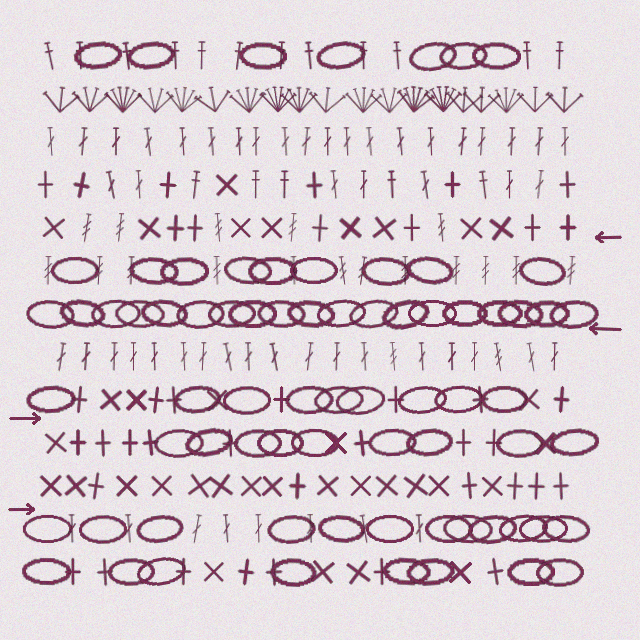chain: (378, 295, 432, 333), (134, 553, 188, 590), (182, 424, 235, 461), (406, 38, 460, 74), (347, 296, 400, 332), (314, 38, 367, 73), (404, 253, 456, 288), (334, 383, 387, 417), (396, 383, 449, 417), (57, 296, 108, 331), (134, 512, 186, 546), (466, 512, 518, 546), (315, 297, 368, 330), (497, 512, 550, 545), (517, 254, 568, 288), (222, 254, 274, 287), (548, 426, 600, 459), (72, 39, 123, 72), (125, 39, 176, 72), (139, 297, 190, 330), (172, 383, 223, 416), (404, 426, 455, 459), (540, 513, 592, 545), (438, 40, 489, 72), (128, 255, 179, 287), (360, 255, 411, 287), (25, 298, 76, 330), (175, 298, 226, 330), (285, 298, 336, 330), (548, 298, 599, 330), (313, 384, 364, 416), (316, 513, 367, 545), (442, 513, 494, 544), (266, 513, 316, 545), (405, 556, 455, 588), (90, 298, 141, 329), (25, 384, 76, 415), (284, 384, 335, 415), (433, 384, 484, 415), (153, 428, 205, 458), (367, 427, 417, 458), (381, 556, 431, 587), (114, 299, 165, 329), (256, 299, 307, 329), (496, 298, 545, 329), (471, 41, 521, 71), (159, 256, 209, 286), (207, 299, 257, 329), (222, 385, 272, 415), (233, 428, 283, 458), (78, 514, 128, 544), (518, 514, 568, 544), (535, 557, 585, 587), (22, 514, 73, 543), (238, 41, 287, 71), (495, 428, 544, 458), (107, 557, 156, 587), (269, 557, 318, 587), (247, 256, 297, 285), (289, 256, 339, 285), (227, 299, 277, 328), (407, 299, 457, 328), (290, 428, 340, 457), (365, 514, 415, 543), (424, 514, 474, 543), (21, 557, 71, 586), (523, 299, 571, 329), (50, 256, 99, 285), (480, 385, 529, 414), (256, 428, 305, 457), (506, 557, 555, 586), (441, 299, 489, 328), (476, 299, 524, 328)
double: (104, 170, 119, 200), (221, 342, 236, 372), (267, 342, 282, 372), (54, 342, 68, 372), (142, 127, 155, 157), (419, 170, 432, 200), (525, 342, 538, 372), (190, 514, 203, 544), (358, 514, 371, 544), (533, 170, 546, 199), (77, 127, 89, 156), (206, 127, 218, 156), (300, 127, 312, 156), (364, 127, 376, 156), (533, 127, 545, 156), (80, 342, 92, 371), (303, 342, 315, 371), (123, 514, 135, 543), (280, 127, 291, 156), (395, 127, 406, 156), (457, 127, 468, 156), (476, 127, 487, 156), (506, 127, 517, 156), (329, 170, 340, 199), (243, 342, 254, 371), (359, 342, 370, 371), (221, 514, 232, 543), (305, 514, 316, 543), (414, 514, 425, 543), (46, 127, 56, 156), (111, 127, 121, 156), (178, 127, 188, 156), (234, 127, 244, 156), (251, 127, 261, 156), (342, 127, 352, 156), (426, 127, 436, 156), (560, 127, 570, 156), (134, 170, 144, 199), (109, 342, 119, 371), (179, 342, 189, 371), (198, 342, 208, 371), (417, 342, 427, 371), (447, 342, 457, 371), (67, 514, 77, 543), (323, 127, 332, 156), (359, 170, 368, 199), (505, 170, 514, 199), (129, 342, 138, 371), (150, 342, 159, 371), (332, 342, 341, 371), (470, 342, 479, 371), (550, 342, 559, 371), (254, 514, 263, 543)
fan: (192, 81, 234, 116), (395, 82, 436, 116), (163, 82, 204, 115), (41, 83, 81, 115), (228, 83, 268, 115), (307, 83, 347, 115), (444, 83, 484, 115), (71, 83, 110, 114), (136, 84, 175, 114), (344, 84, 383, 114), (462, 84, 501, 114), (545, 84, 584, 114), (104, 84, 142, 114), (280, 84, 318, 114), (370, 84, 408, 114), (487, 84, 525, 114), (259, 84, 297, 113), (424, 84, 462, 113), (516, 84, 554, 113)
half_double: (42, 41, 58, 71), (120, 41, 134, 71), (231, 41, 245, 71), (188, 170, 202, 200), (477, 170, 491, 200), (303, 41, 316, 70), (391, 41, 404, 70), (74, 41, 86, 70), (169, 41, 181, 70), (275, 41, 287, 70), (521, 41, 533, 70), (386, 170, 398, 199), (196, 41, 207, 70), (358, 41, 369, 70), (554, 41, 565, 70), (250, 170, 261, 199), (279, 170, 290, 199)
noise: (586, 321, 622, 336), (8, 411, 43, 425), (7, 503, 37, 515), (592, 231, 622, 243)
single: (64, 168, 98, 202), (183, 469, 216, 502), (204, 469, 237, 502), (399, 469, 432, 502), (479, 555, 512, 588), (133, 212, 165, 244), (368, 212, 400, 244), (485, 212, 517, 244), (140, 384, 172, 416), (346, 427, 378, 459), (80, 470, 112, 502), (230, 556, 262, 588), (342, 556, 374, 588), (38, 212, 69, 243), (64, 384, 95, 415), (95, 384, 126, 415), (465, 384, 496, 415), (513, 384, 544, 415), (546, 384, 577, 415), (40, 427, 71, 458), (135, 427, 166, 458), (60, 470, 91, 501), (312, 470, 343, 501), (371, 470, 402, 501), (454, 470, 485, 501), (307, 556, 338, 587), (335, 212, 365, 243), (153, 170, 183, 200), (299, 170, 329, 200), (160, 213, 190, 243), (180, 213, 210, 243), (305, 213, 335, 243), (456, 213, 486, 243), (159, 385, 189, 415), (202, 385, 232, 415), (88, 428, 118, 458), (215, 428, 245, 458), (530, 428, 560, 458), (236, 471, 266, 501), (257, 471, 287, 501), (477, 471, 507, 501), (500, 471, 530, 501), (521, 471, 551, 501), (546, 471, 576, 501), (90, 557, 120, 587), (259, 557, 289, 587), (445, 557, 475, 587), (283, 471, 312, 501), (31, 170, 60, 199), (212, 170, 241, 199), (438, 170, 467, 199), (553, 170, 582, 199), (226, 213, 255, 242), (257, 213, 286, 242), (397, 213, 426, 242), (518, 213, 547, 242), (267, 385, 296, 414), (381, 385, 410, 414), (115, 428, 144, 457), (321, 428, 350, 457), (449, 428, 478, 457), (479, 428, 508, 457), (36, 471, 65, 500), (112, 471, 141, 500), (147, 471, 176, 500), (346, 471, 375, 500), (424, 471, 453, 500), (58, 557, 87, 586), (169, 557, 198, 586), (199, 557, 228, 586), (367, 557, 396, 586), (554, 213, 582, 242), (122, 385, 150, 414), (64, 428, 92, 457)
treble: (80, 213, 93, 243), (356, 256, 369, 286), (492, 342, 505, 372), (114, 213, 126, 242), (337, 256, 349, 285), (565, 256, 577, 285), (213, 213, 224, 242), (287, 213, 298, 242), (436, 213, 447, 242), (388, 342, 399, 371), (43, 256, 53, 285), (94, 256, 104, 285), (126, 256, 136, 285), (212, 256, 222, 285), (289, 256, 299, 285), (400, 256, 410, 285), (451, 256, 461, 285), (511, 256, 521, 285), (481, 256, 490, 285)
